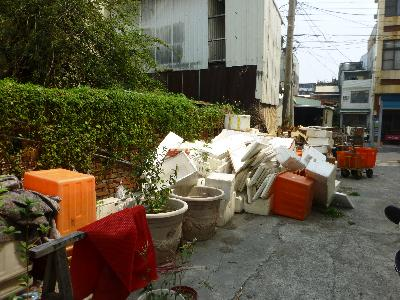bowl: (169, 184, 225, 241)
box: (22, 166, 99, 235), (271, 170, 314, 222), (338, 145, 376, 170)
styrofoam: (143, 150, 198, 195), (306, 159, 338, 208), (274, 144, 306, 173), (206, 172, 236, 201), (222, 110, 251, 131), (305, 125, 332, 139), (305, 135, 335, 147)
